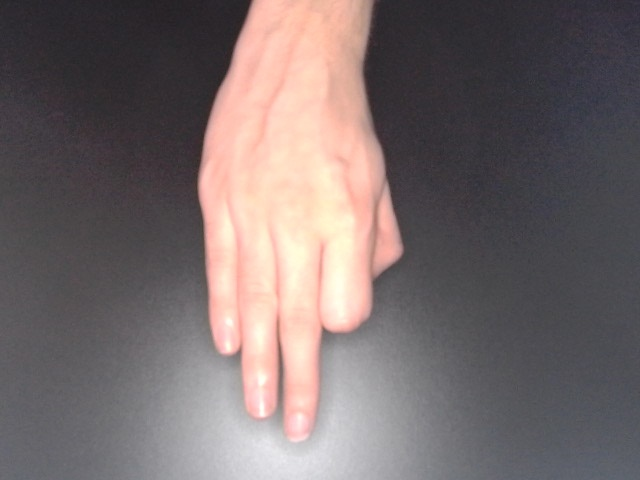m: (189, 11, 412, 452)
